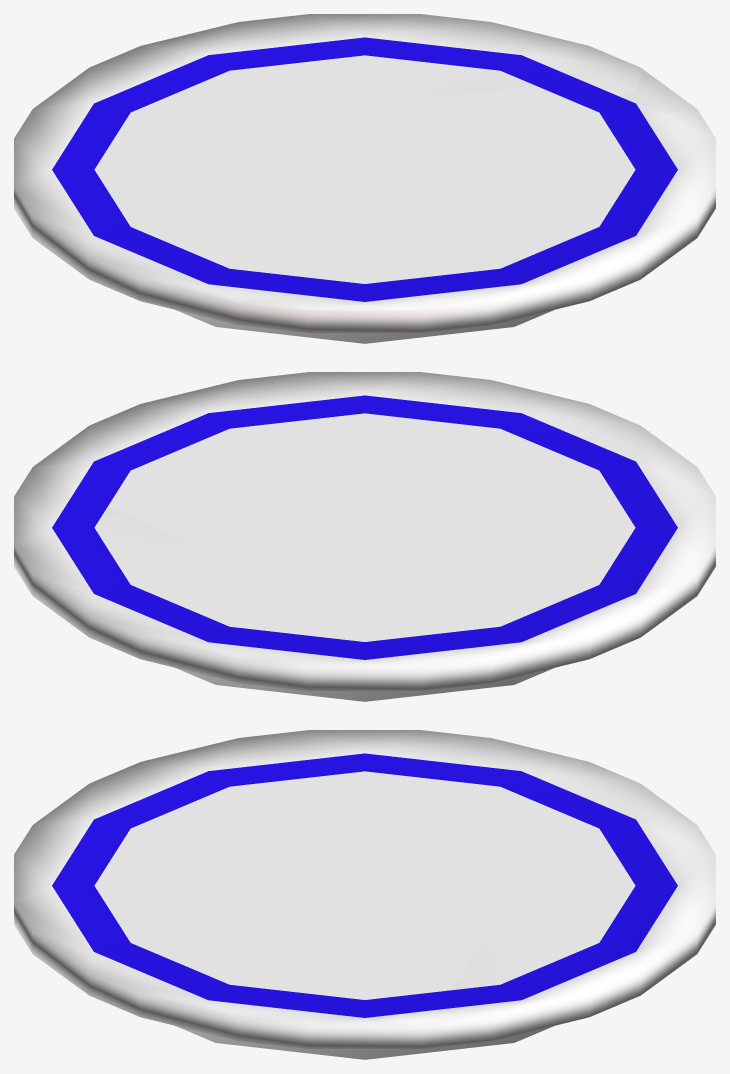
The model's file is dish_s.fbx.
3 views of the same model, one above another, from view 1: azimuth 30°, elevation 25°; view 2: azimuth 150°, elevation 25°; view 3: azimuth 270°, elevation 25° (orthographic).
Visible parts, largest first — view 1: dish_s; view 2: dish_s; view 3: dish_s.
Part boxes in pixels (bbox=[...]): dish_s: bbox=[14, 14, 715, 343]; dish_s: bbox=[14, 372, 715, 701]; dish_s: bbox=[14, 730, 715, 1059].
Bounding box in the file's own units: 6 × 0.5208 × 6.
